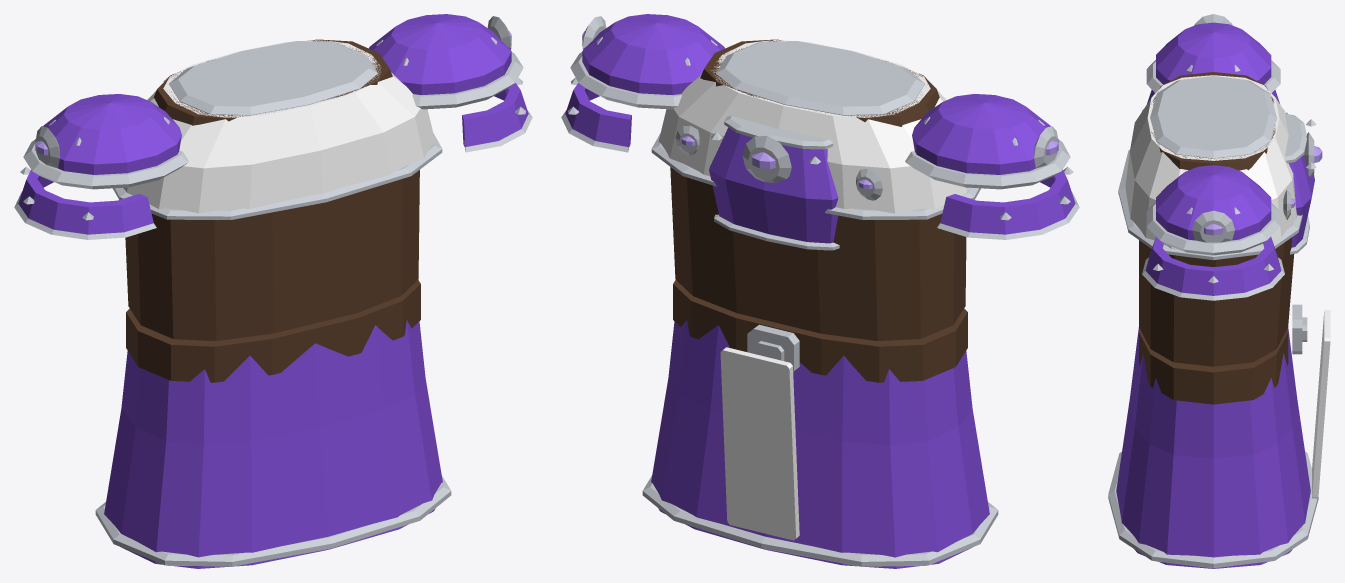
Rendered from look3_armor_healer_epic.fbx.
The picture shows the model from 3 angles, left to right: view 1: azimuth 30°, elevation 25°; view 2: azimuth 150°, elevation 25°; view 3: azimuth 270°, elevation 25°; orthographic projection. The views are drawn at different scales.
Parts seen in each view (by area): view 1: Main, Tasset; view 2: Main, Tasset; view 3: Main, Tasset.
Boxes of the visible parts, x1,y1,x2,y2 form: Main: [14, 14, 532, 382]; Tasset: [95, 320, 451, 568]; Main: [561, 14, 1079, 382]; Tasset: [642, 320, 998, 568]; Main: [1118, 14, 1322, 404]; Tasset: [1108, 310, 1330, 568].
Bounding box in the file's own units: 405 × 346 × 175.
